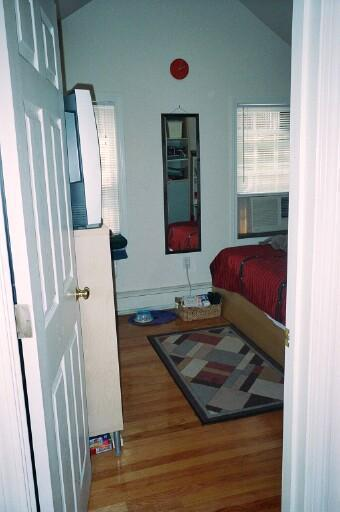Cama: (215, 238, 286, 361)
Otro Obstaculo: (175, 290, 225, 324), (129, 301, 176, 328)
Puerta: (1, 3, 91, 510)
Ventana: (239, 111, 287, 239)
